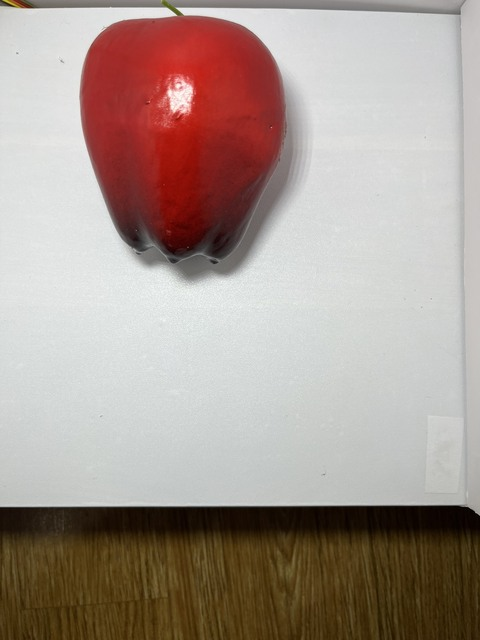Tao: (80, 15, 292, 273)
